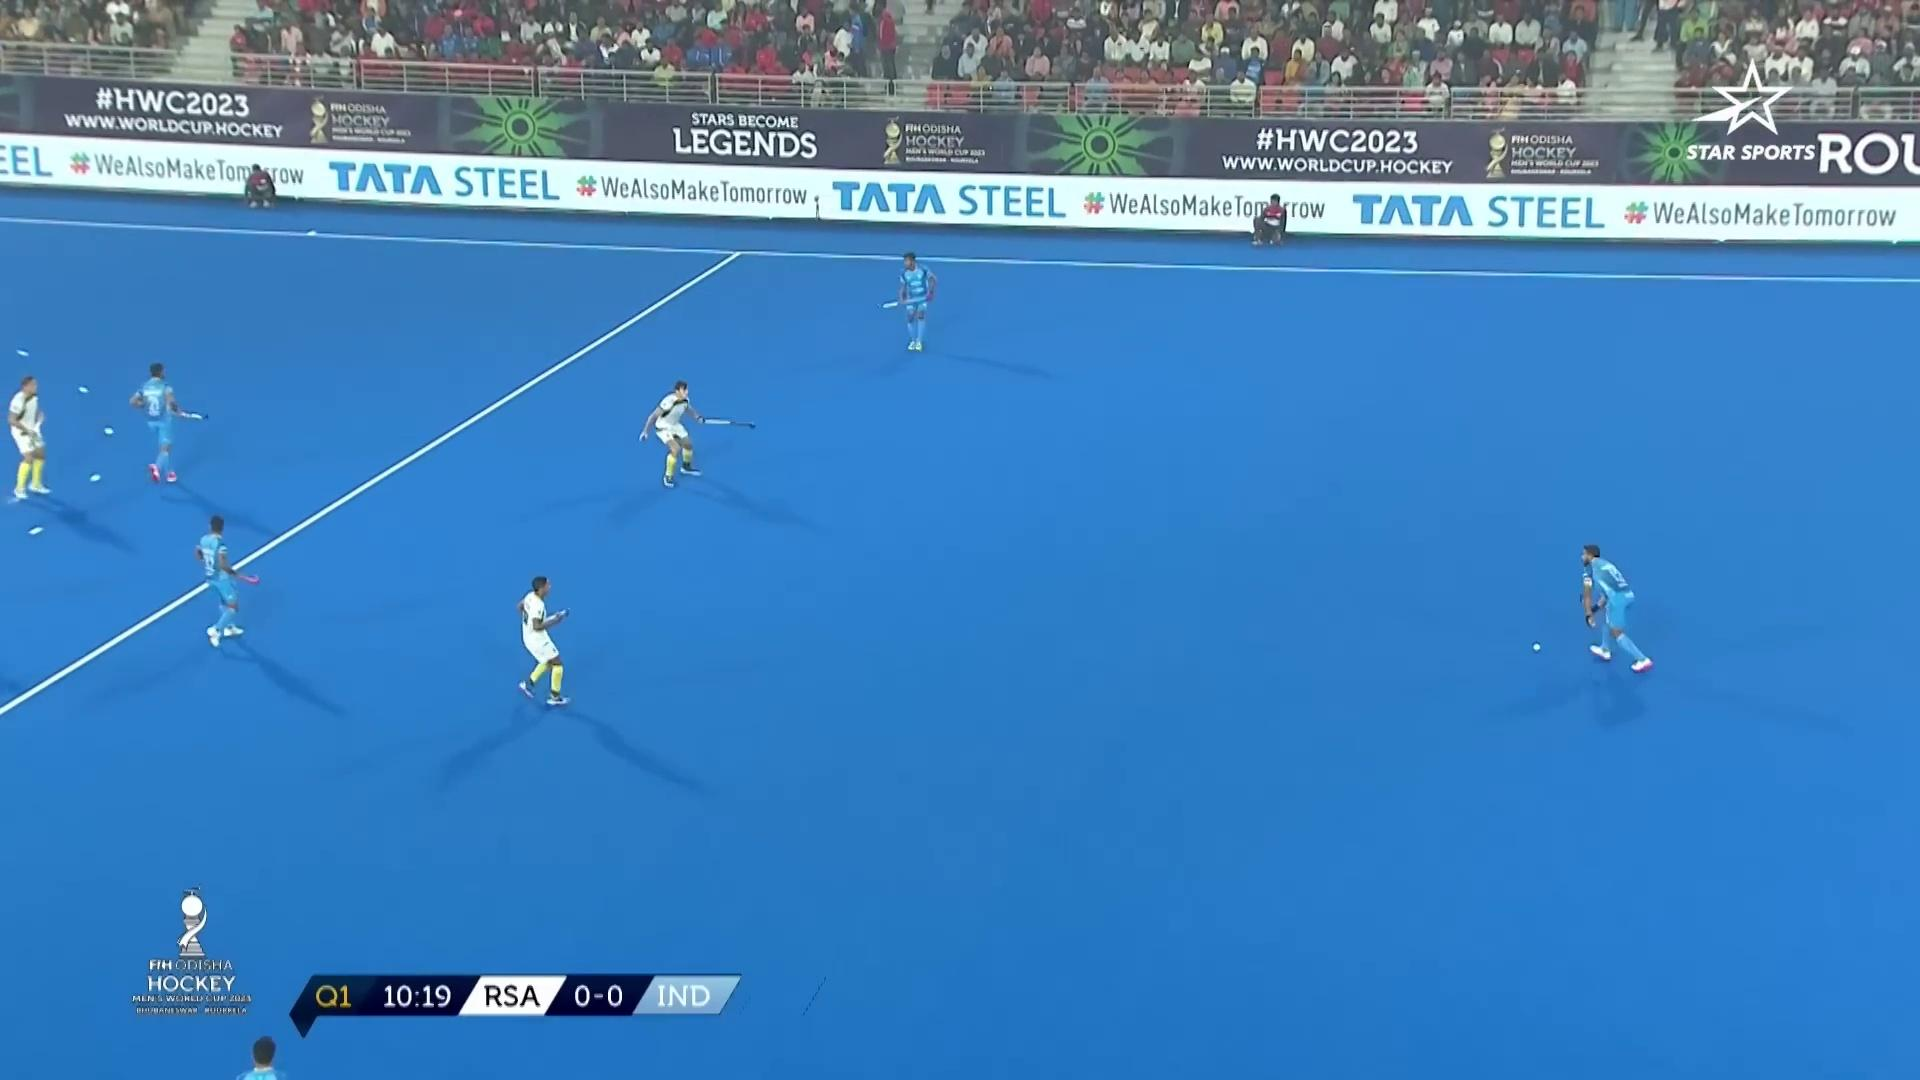ball: (1522, 632, 1559, 666)
